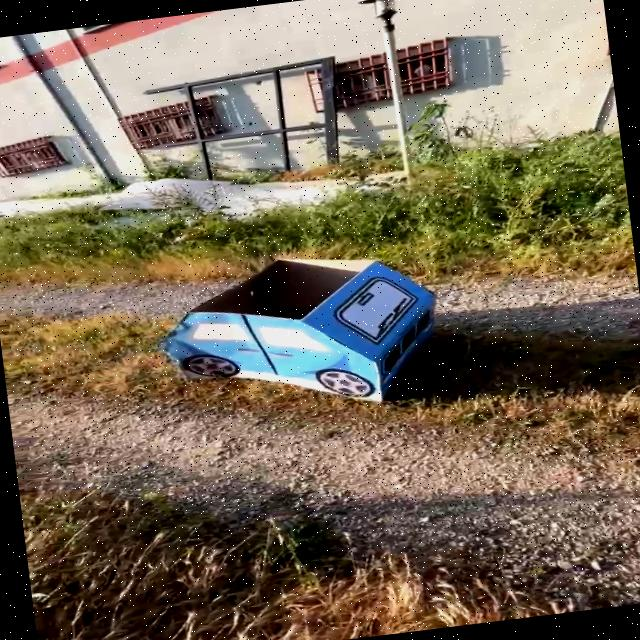blue_car: (139, 201, 497, 455)
